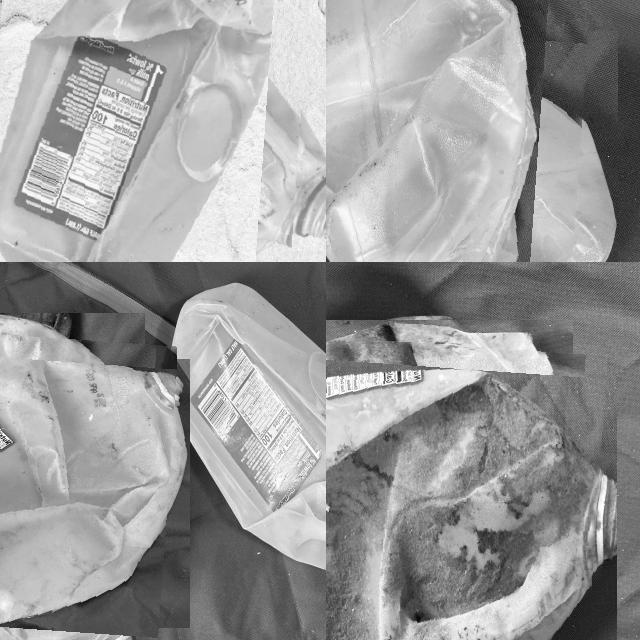milk-jug: (326, 335, 601, 640), (0, 0, 306, 262), (326, 0, 583, 262), (0, 330, 172, 640), (167, 279, 326, 571)
